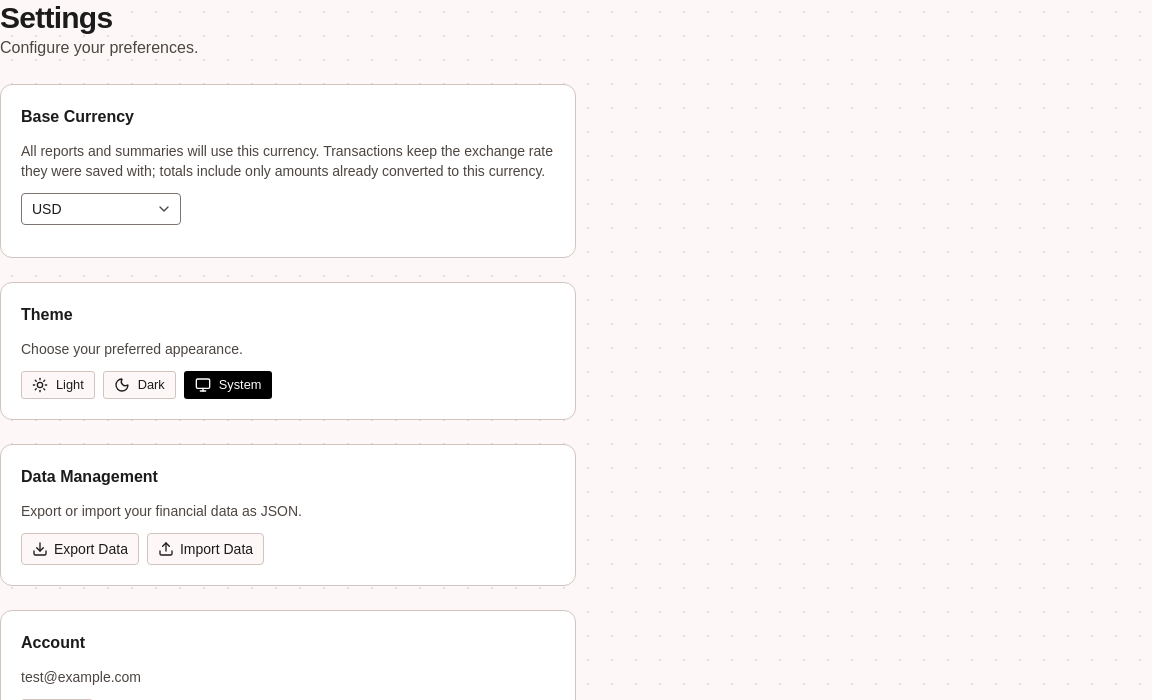
Test: Settings Page › shows the import dialog empty state
Click the button "Import Data" at (205, 549), box [147,533,264,565]
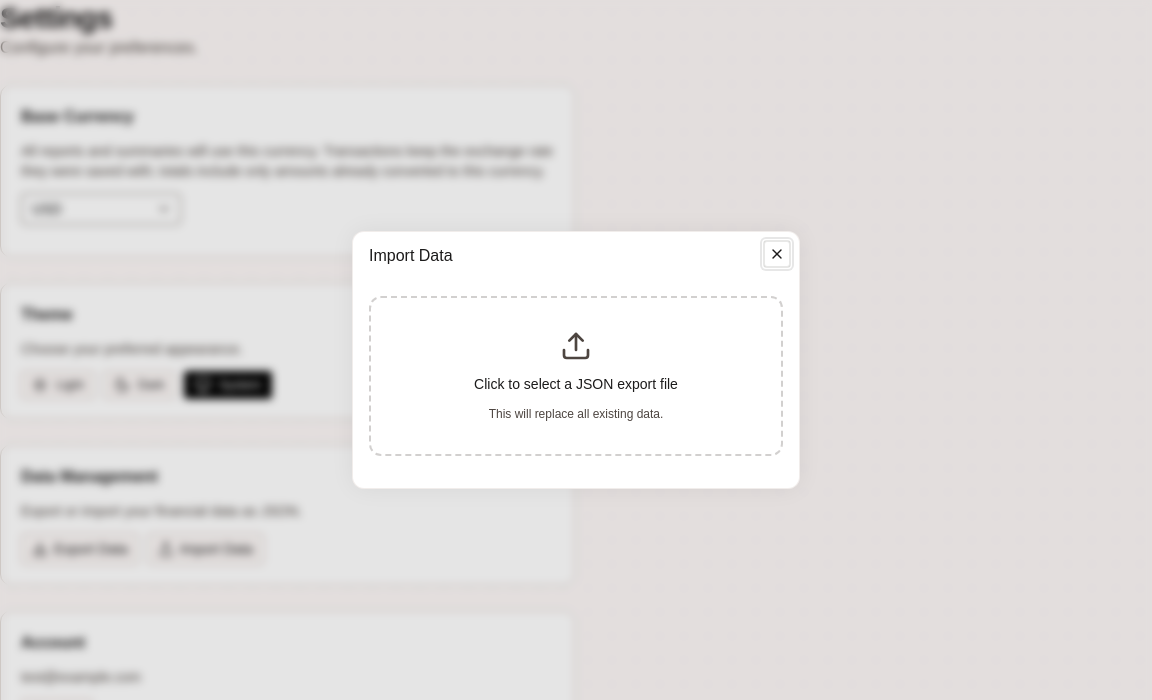
Expected: the text "Click to select a JSON export file" is shown, [474,374,678,394]
